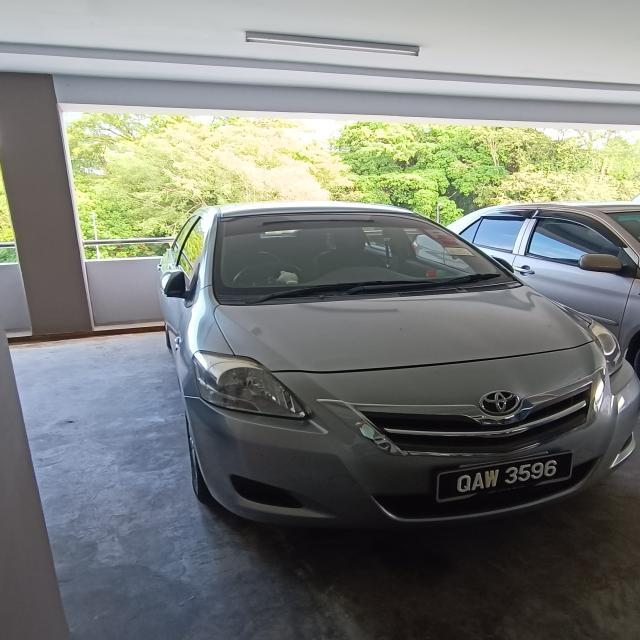ToyotaVios: (156, 199, 639, 530)
